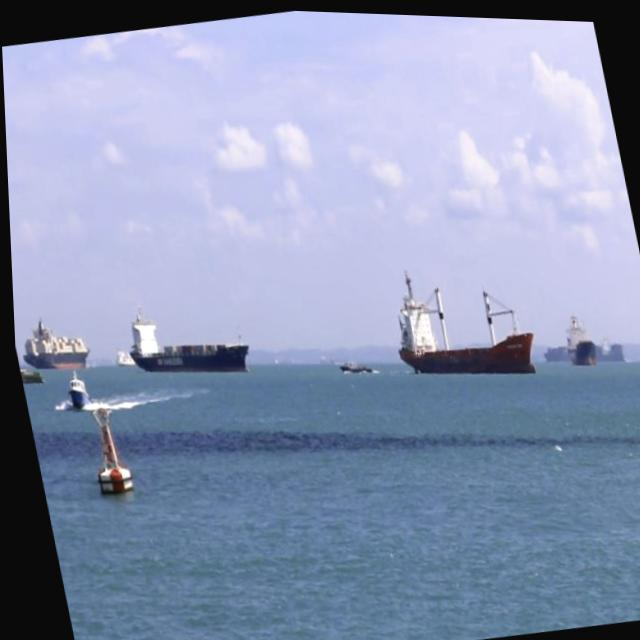ship2: (395, 268, 533, 372), (125, 302, 246, 372), (19, 319, 86, 371)
